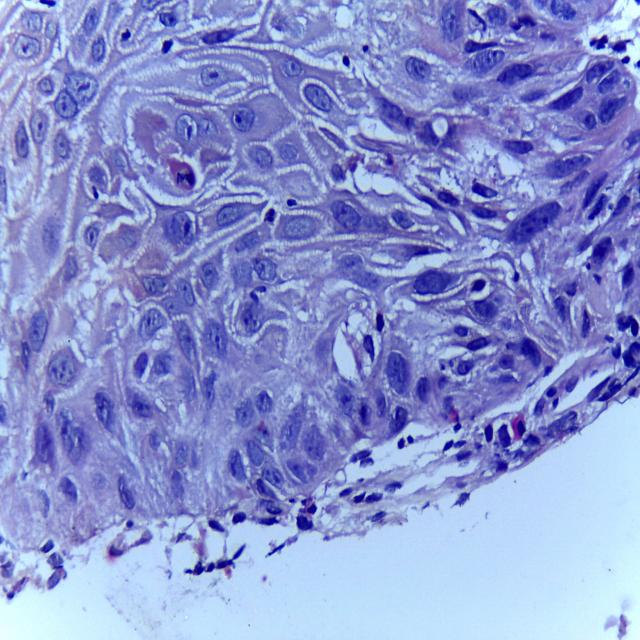Multiple Nucleol: (24, 306, 50, 353), (437, 0, 467, 39), (303, 81, 331, 113), (239, 308, 265, 334)
Nuclear Hyperchromatism: (31, 197, 442, 520)
